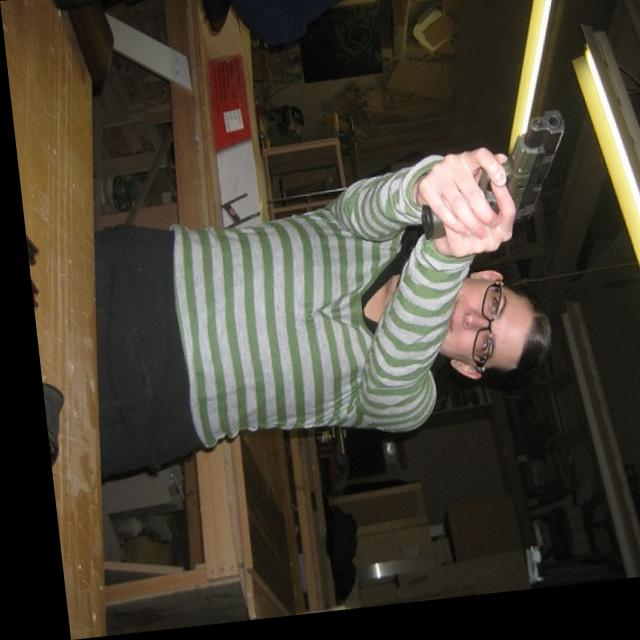handgun: (408, 120, 570, 249)
